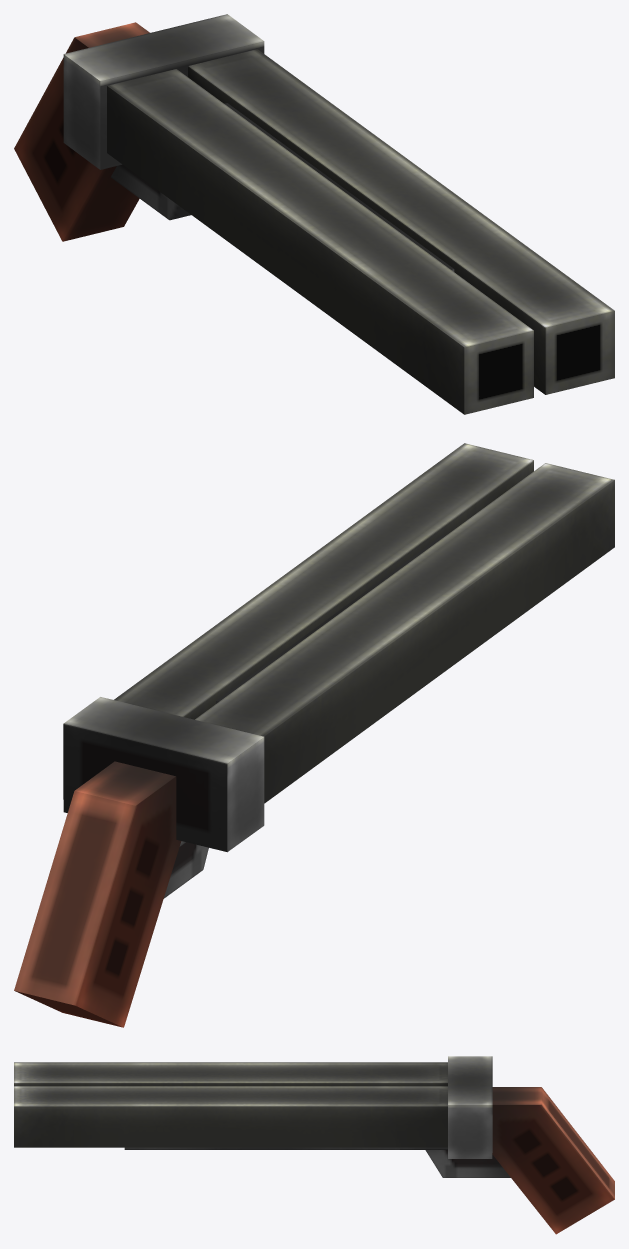
File: weapon_shotgun.FBX
3 renders of one model, top to bottom at view 1: azimuth 30°, elevation 25°; view 2: azimuth 150°, elevation 25°; view 3: azimuth 270°, elevation 25°, orthographic. The views are drawn at different scales.
Visible parts, largest first — view 1: weapon_shotgun; view 2: weapon_shotgun; view 3: weapon_shotgun.
Part boxes in pixels (<box>): weapon_shotgun: <box>14,14,614,414</box>; weapon_shotgun: <box>14,443,614,1027</box>; weapon_shotgun: <box>14,1056,614,1234</box>.
Size of the model in its own units: 16.77 by 23.27 by 87.57.
